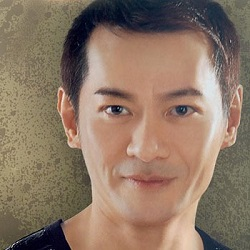unmask: (76, 67, 232, 223)
